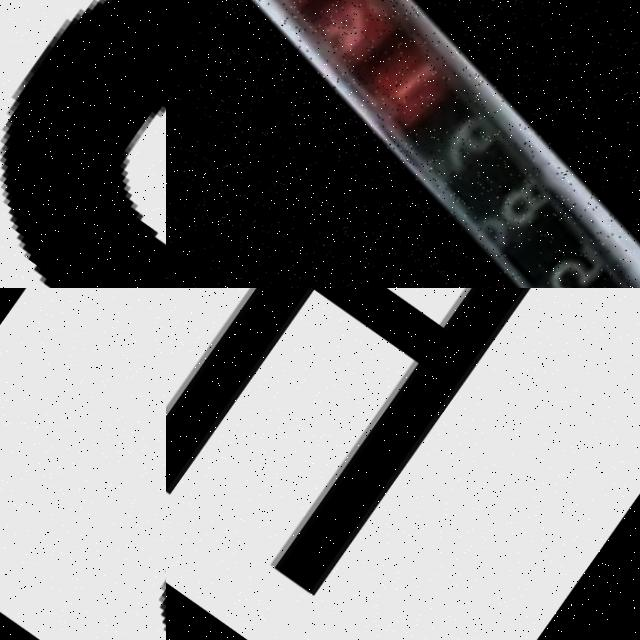1: (382, 43, 454, 120)
5: (0, 0, 166, 288), (535, 227, 618, 288)
6: (310, 0, 383, 67)
8: (487, 162, 566, 245)
9: (427, 96, 516, 188)
H: (166, 288, 633, 609)
S: (2, 288, 166, 640)
